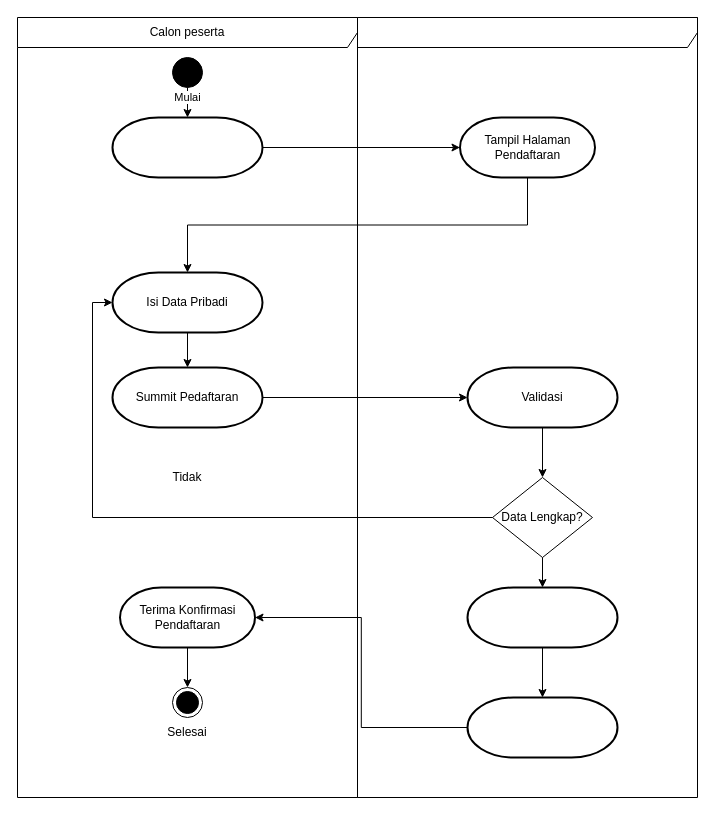
Some shapes in this 715 by 815 pixel diagram are drawn without their labels. The box of each missing label's shape, as (x1, y1, x2, y2) in pixels:
Konfirmasi Pendaftaran Via Email: (466, 696, 618, 758)
Masukan Pendaftaran: (111, 116, 263, 178)
Simpan Data Pendaftaran: (466, 586, 618, 648)
Sistem Selesai: (356, 16, 698, 798)
